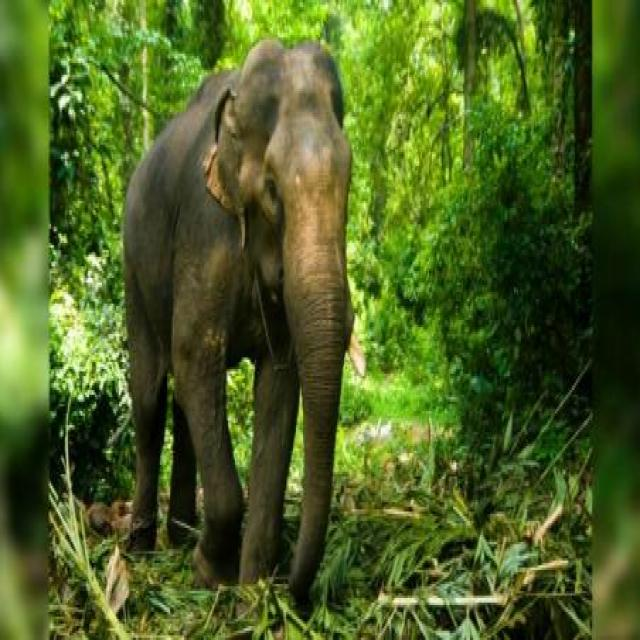Elephant: (119, 21, 357, 605)
